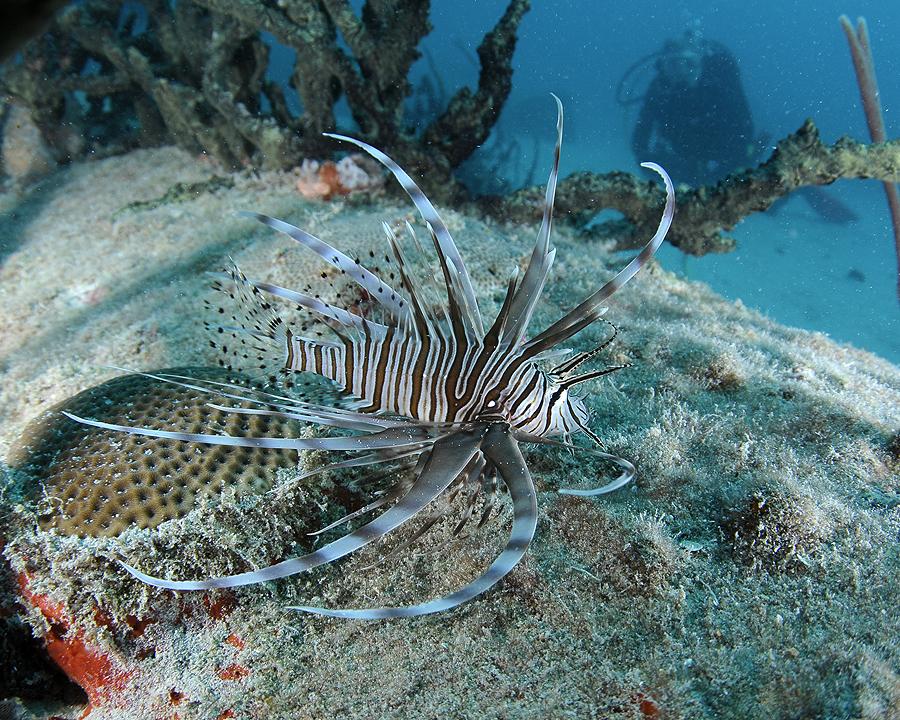Pterois_volitans: (232, 188, 680, 564)
